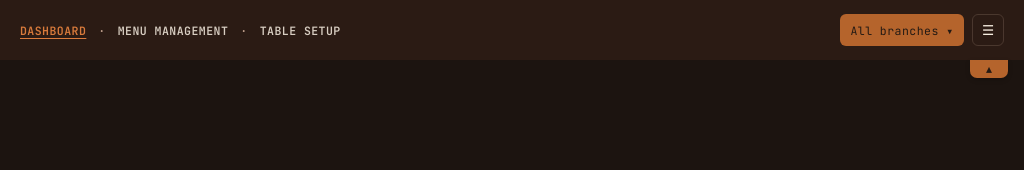
Test case: StaffBar branch picker › opens a popover listing every branch, plus "All branches" only on the dashboard
Click the button "All branches ▾" at (902, 30), box left=840, top=14, right=964, bottom=46
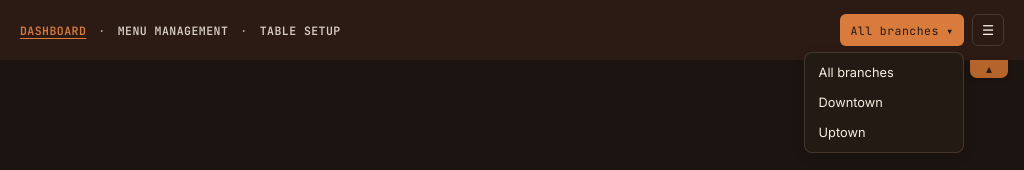
Now the list is shown, box left=804, top=52, right=964, bottom=153
Now the button "All branches" is shown, box left=811, top=58, right=957, bottom=86
Now the button "Downtown" is shown, box left=811, top=88, right=957, bottom=116
